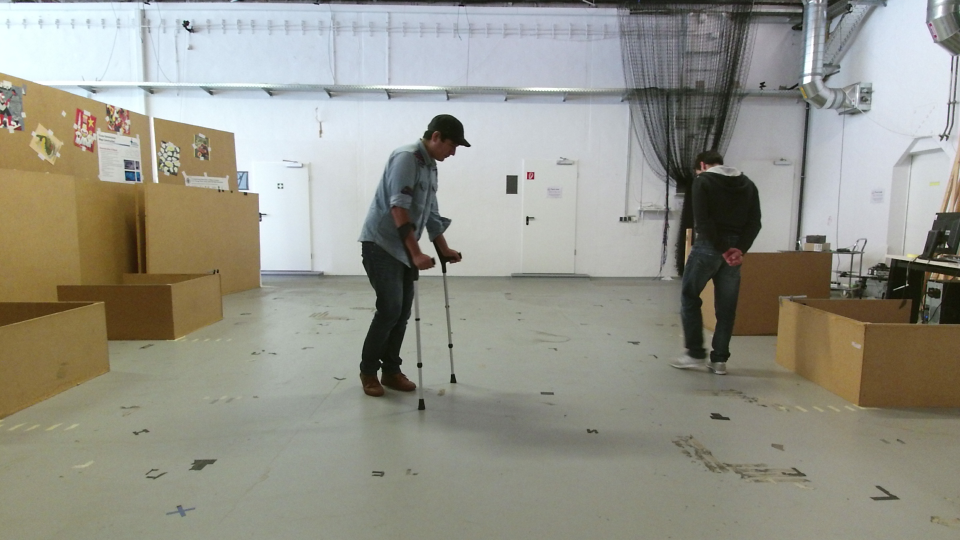crutches: (354, 108, 476, 400)
